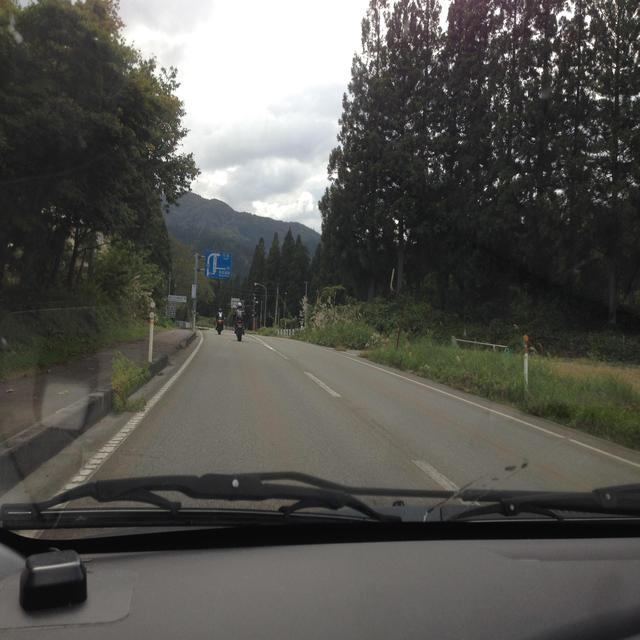Motorcycle: (217, 319, 243, 340)
Vegetation: (0, 0, 201, 347)
